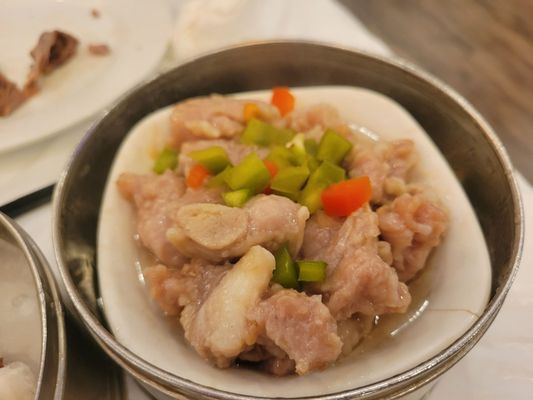sushi: (20, 24, 525, 398), (0, 209, 64, 400)
